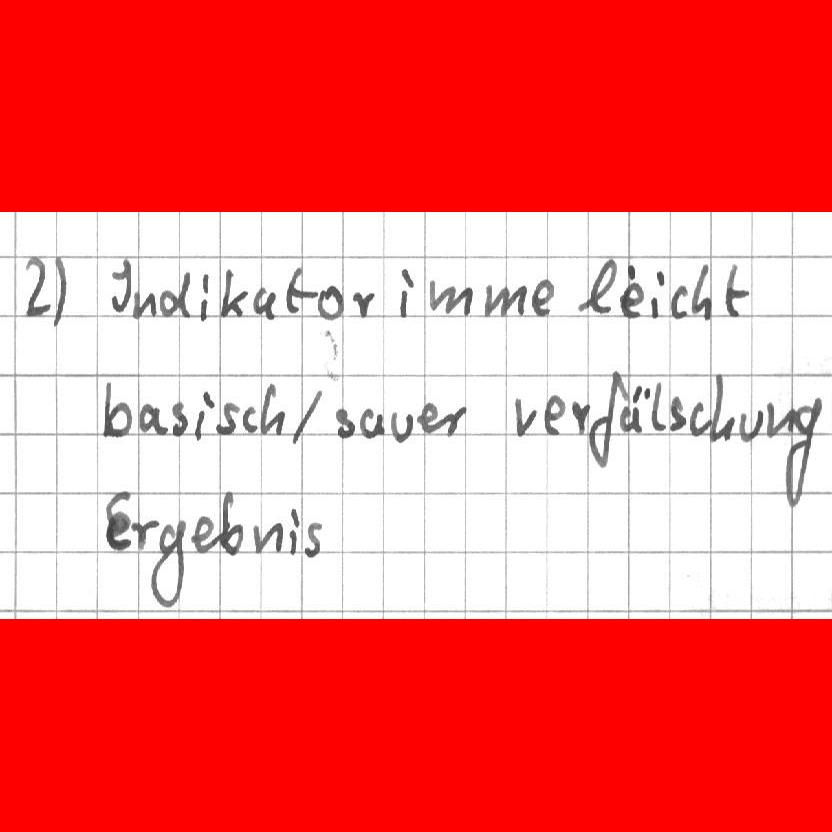Char: (783, 393, 823, 508), (148, 519, 187, 609), (589, 366, 622, 470), (576, 257, 618, 315), (708, 371, 738, 442), (101, 378, 135, 439), (427, 277, 474, 319), (290, 387, 323, 446), (284, 264, 318, 317), (23, 255, 52, 317), (219, 488, 245, 556), (158, 269, 193, 319), (482, 282, 528, 319), (105, 488, 131, 553), (618, 385, 650, 434), (220, 267, 249, 318), (260, 381, 286, 437), (724, 263, 750, 318), (690, 263, 712, 321), (109, 258, 132, 313), (512, 394, 539, 440), (189, 515, 219, 556), (765, 399, 796, 438), (252, 519, 285, 555), (193, 388, 215, 441), (129, 516, 160, 552), (530, 277, 556, 319), (138, 401, 169, 436), (316, 285, 346, 321), (542, 392, 566, 437), (53, 254, 67, 329), (618, 281, 646, 318), (414, 400, 442, 435), (440, 404, 469, 437), (738, 407, 764, 443), (358, 406, 387, 438), (388, 408, 414, 443), (251, 284, 276, 320), (651, 378, 667, 433), (215, 400, 240, 435), (398, 267, 415, 318), (688, 399, 711, 436), (668, 283, 690, 320), (132, 289, 158, 320), (350, 290, 376, 321), (650, 269, 666, 319), (333, 406, 357, 439), (303, 521, 323, 560), (171, 399, 190, 440), (667, 394, 686, 433), (571, 398, 590, 435), (287, 506, 301, 556), (199, 272, 211, 324), (242, 405, 259, 434)
